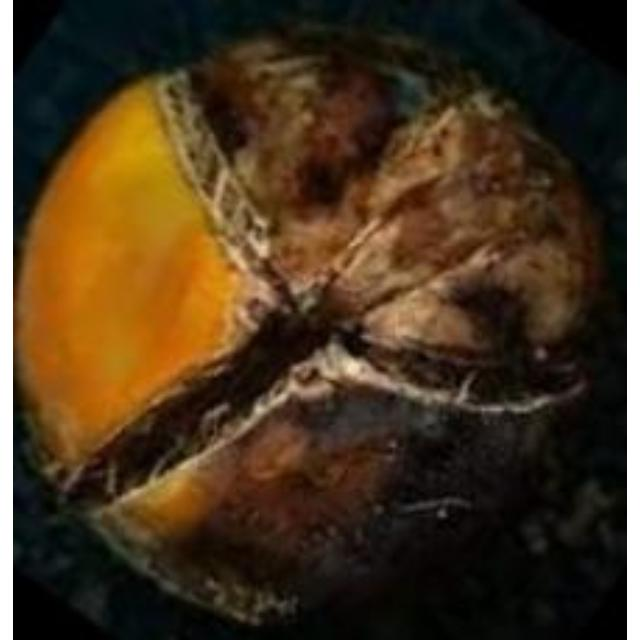damaged: (13, 14, 625, 637)
